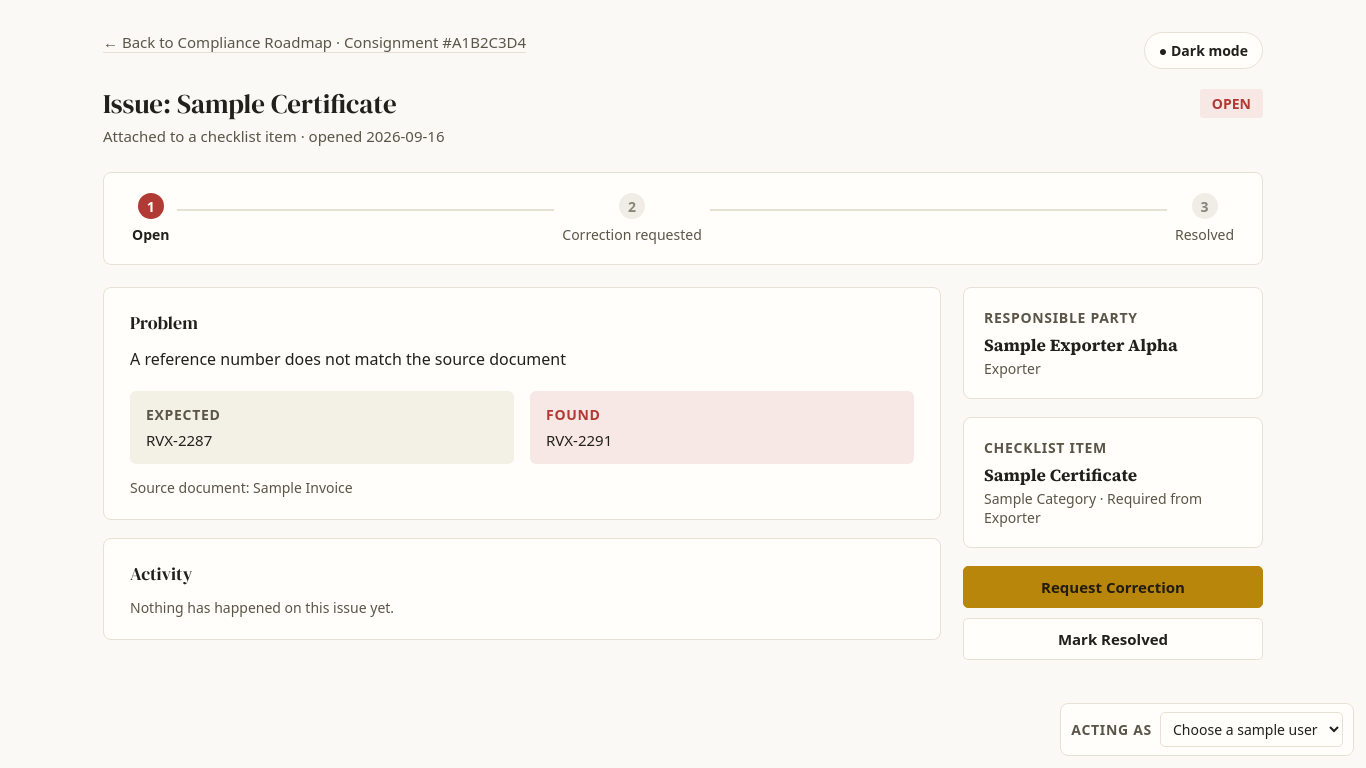
Scenario: issue: requesting a correction › keeps the dialog open with the message and shows why when the server refuses
This screenshot has width=1366, height=768.
Click the button "Request Correction": (1113, 587) [963,566,1263,608]
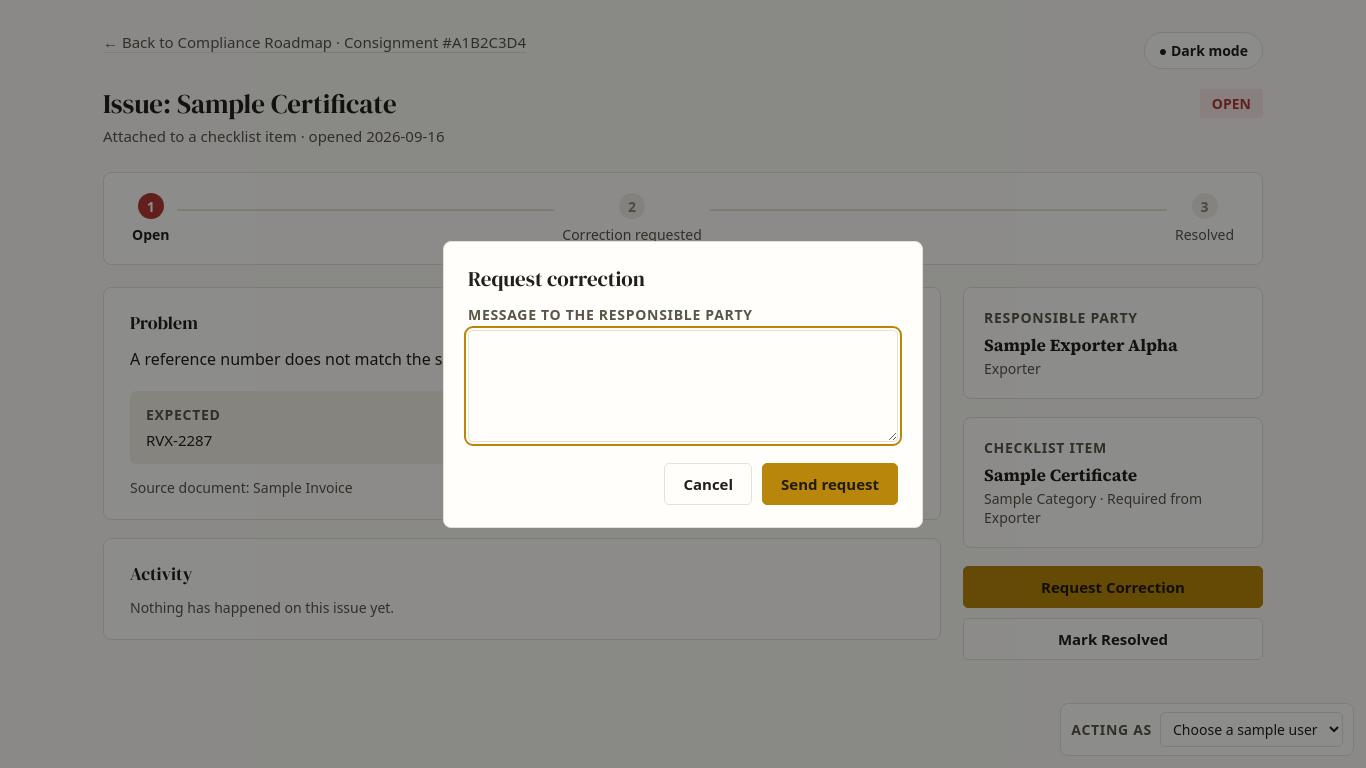
In the text box labelled "Message to the responsible party": (683, 386) [468,330,898,442], type "Please reissue"
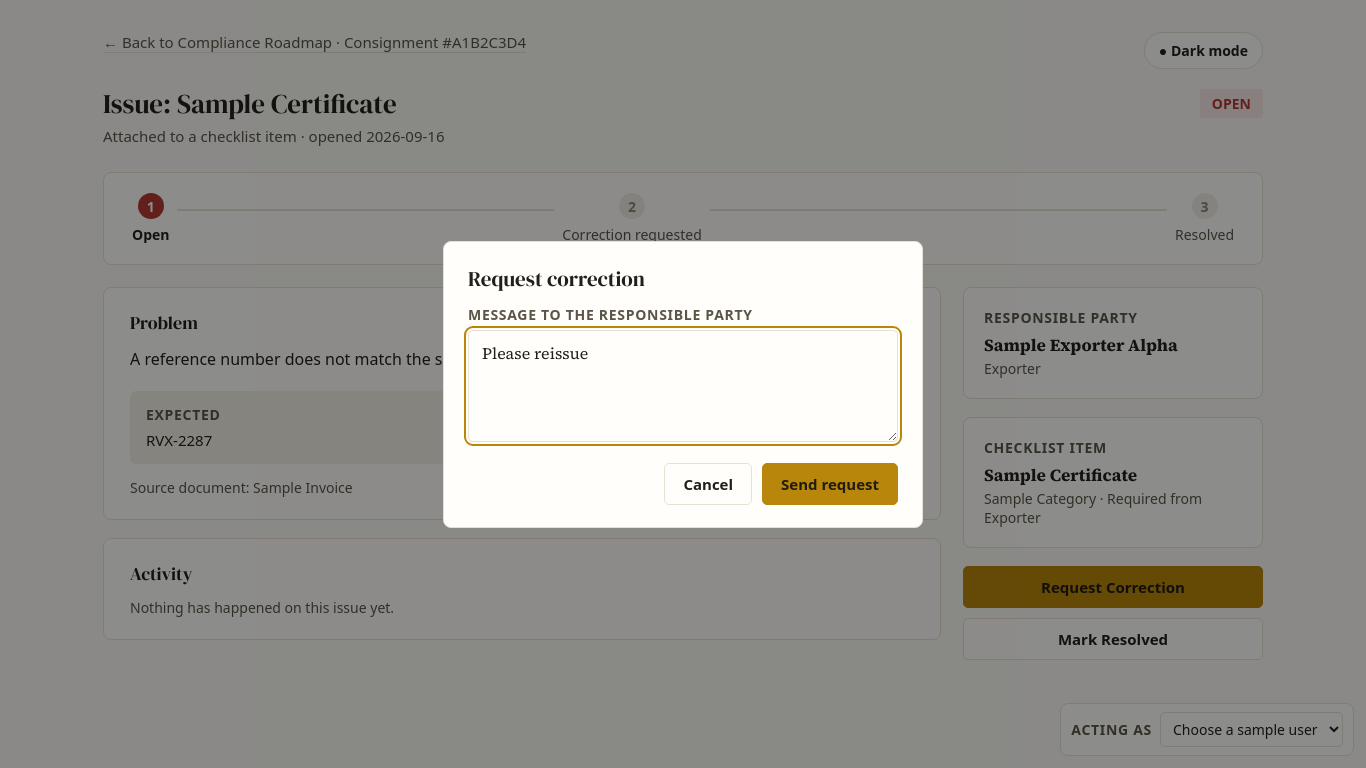
Click the button "Send request": (830, 484) [762,462,898,504]
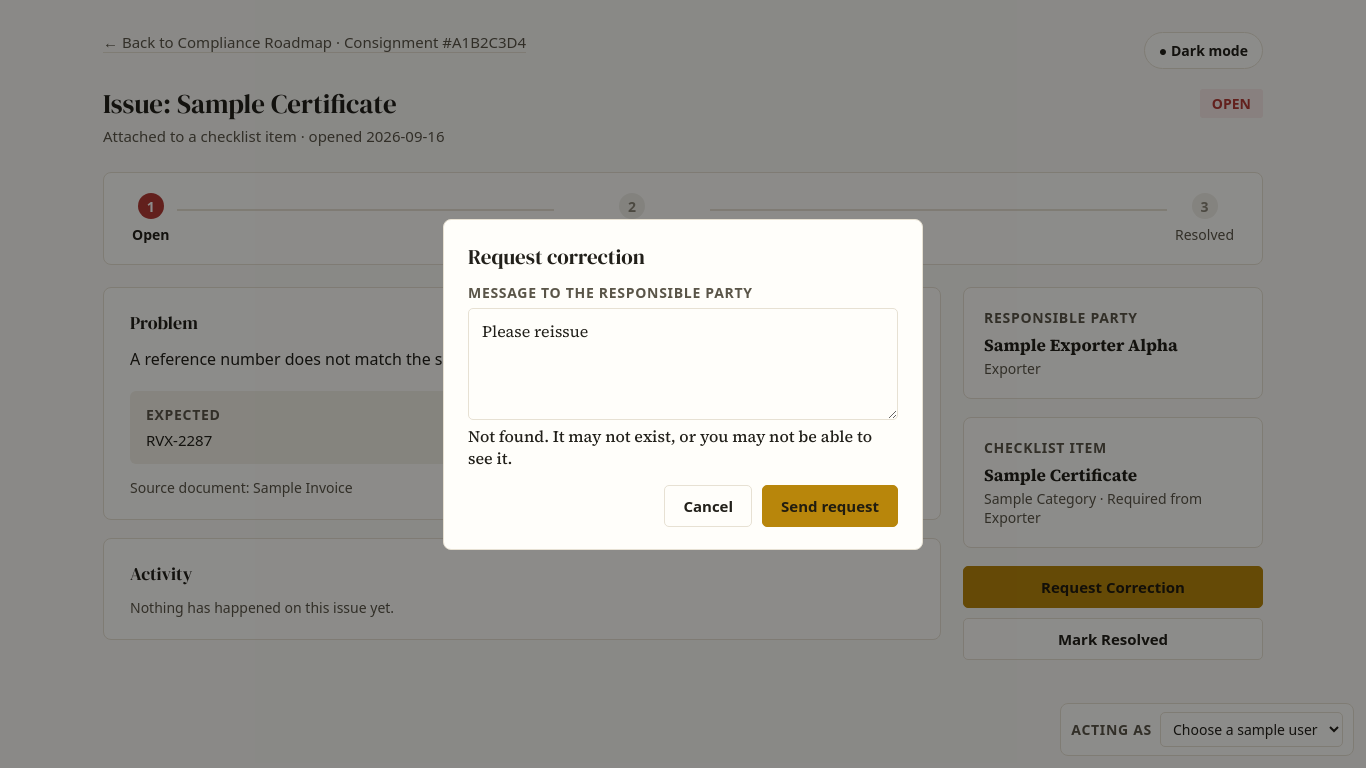
Now the button "Send request" is enabled, box [762,484,898,526]
Now the message shows "Not found", box [468,424,544,446]
